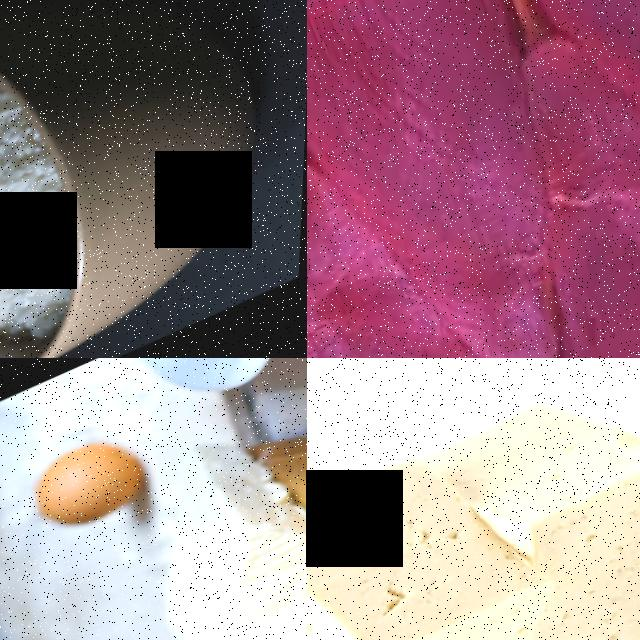egg: (16, 424, 163, 548)
tofu: (404, 358, 640, 640), (307, 429, 594, 640)
tuna: (307, 0, 640, 358), (307, 105, 626, 358), (437, 0, 640, 358), (307, 36, 435, 358)
white rice: (0, 30, 126, 358)
